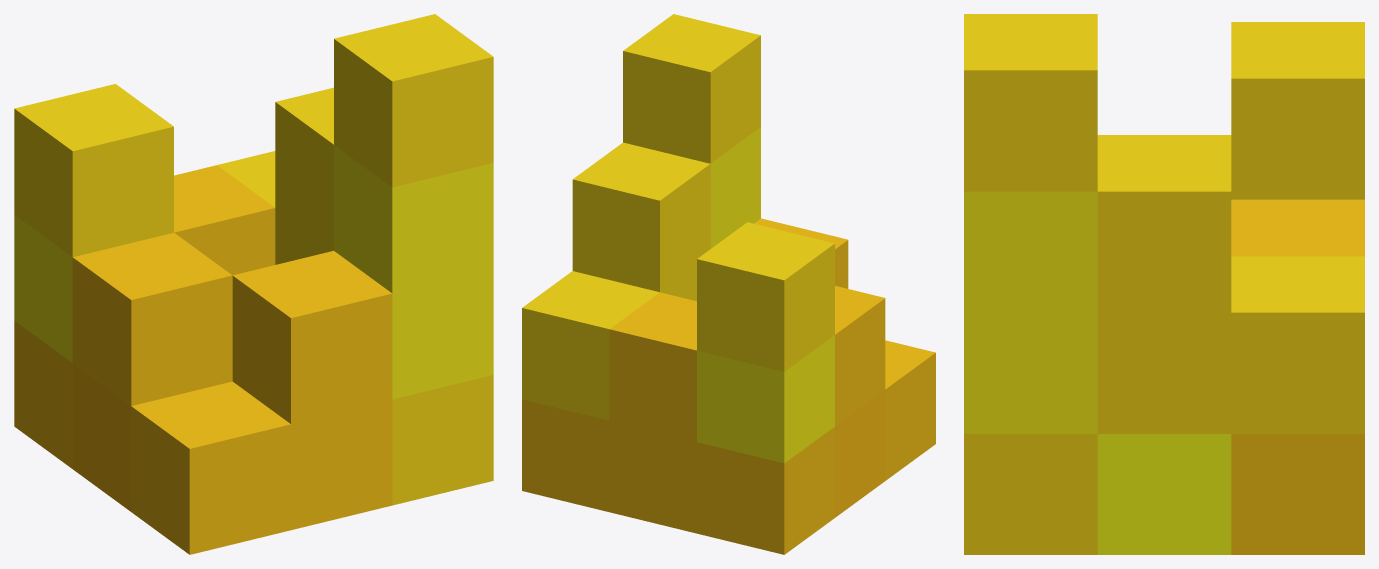
The model's file is wall_torch-9-flames.obj.
3 renders of one model, left to right at view 1: azimuth 30°, elevation 25°; view 2: azimuth 150°, elevation 25°; view 3: azimuth 270°, elevation 25°, orthographic. The views are drawn at different scales.
Parts seen in each view (by area): view 1: flames; view 2: flames; view 3: flames.
Boxes of the visible parts, x1,y1,x2,y2 form: flames: [14, 14, 493, 554]; flames: [522, 14, 935, 554]; flames: [964, 14, 1364, 554].
Bounding box in the file's own units: 0.3 × 0.4 × 0.3.
1 material, 1 textured.
